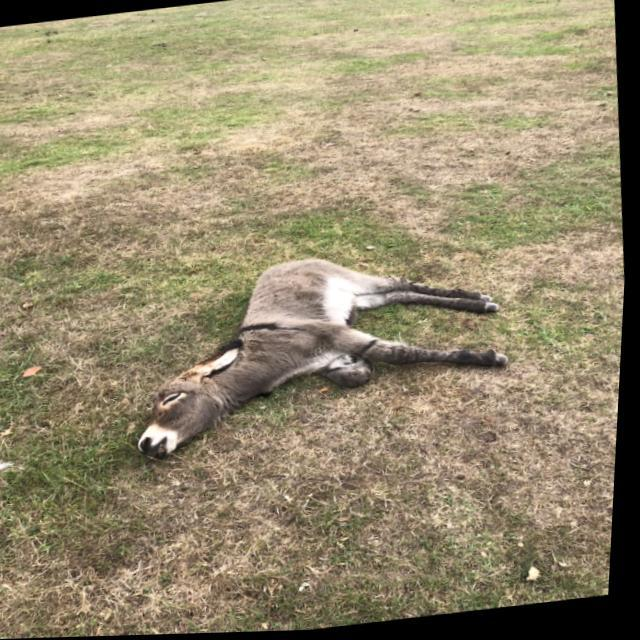Donkey: (123, 236, 522, 464)
